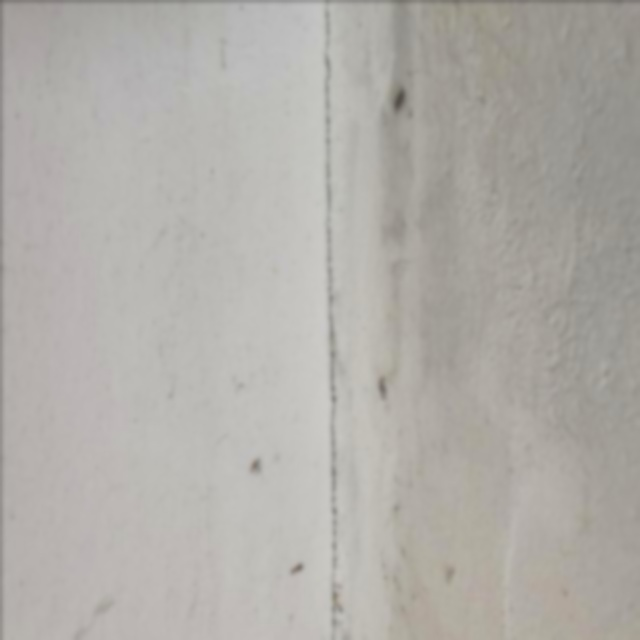SurfaceCrack: (264, 0, 389, 639)
